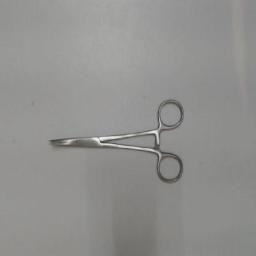Crile Artery Forceps: (44, 95, 188, 191)
